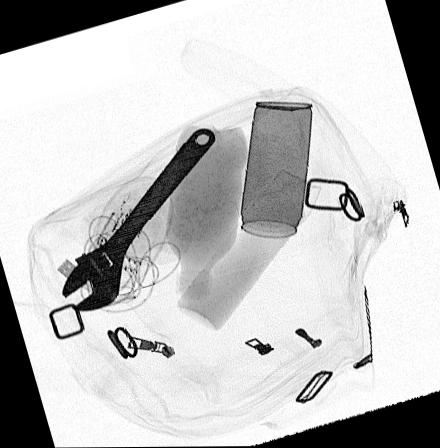Wrench: (61, 128, 215, 313)
